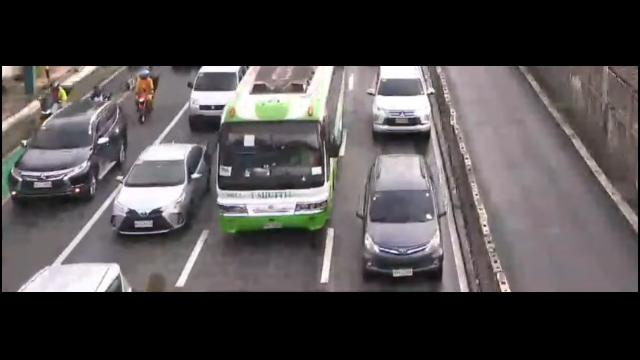bus: (206, 65, 355, 239)
car: (9, 99, 126, 207), (356, 152, 447, 284), (112, 143, 212, 238), (364, 63, 434, 143)
motorcycle: (128, 69, 161, 125), (39, 79, 70, 123), (85, 80, 112, 116)
van: (185, 63, 245, 129)
